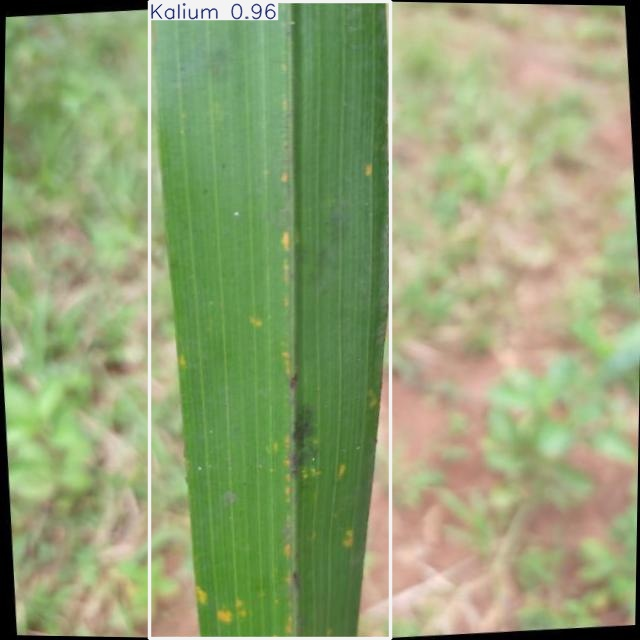Kalium: (149, 2, 390, 639)
